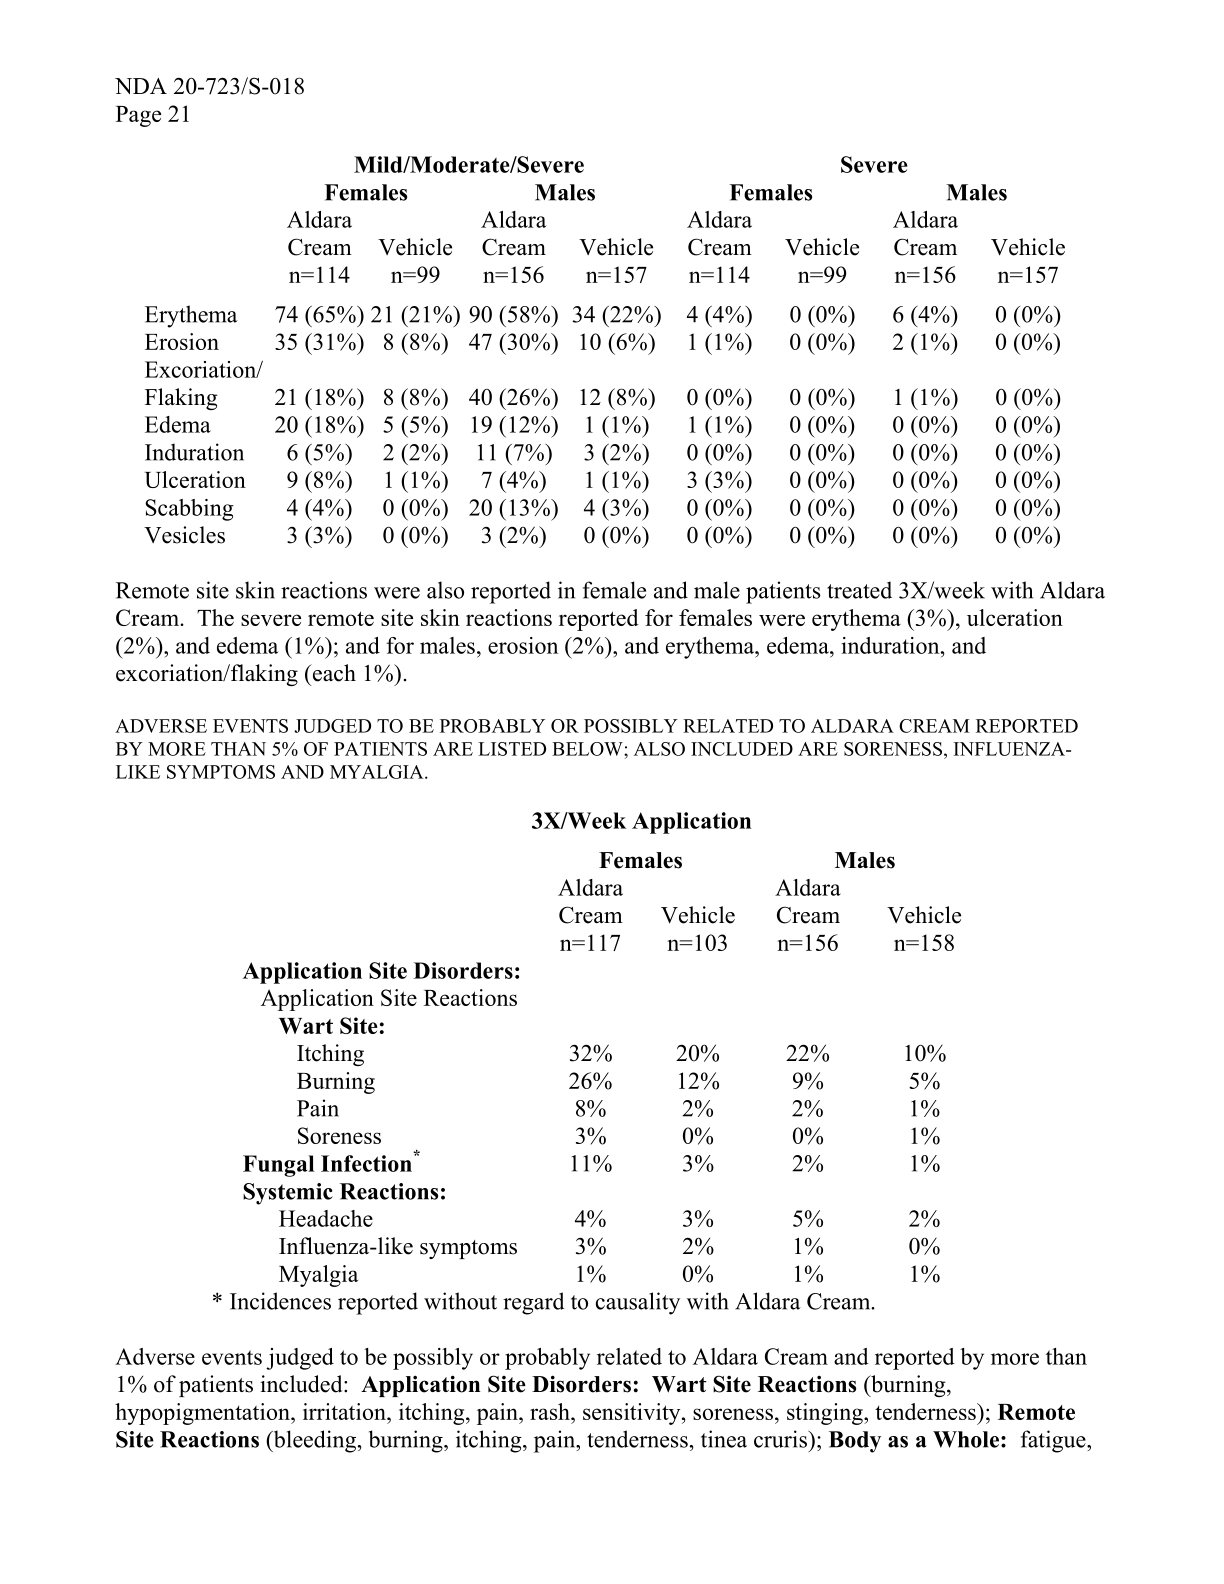nolines: (141, 150, 1065, 549), (240, 849, 962, 1288)
